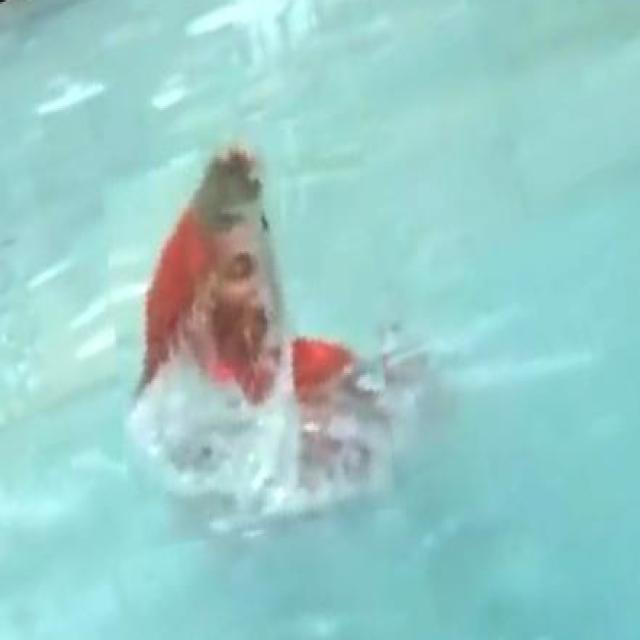Drowning: (139, 151, 382, 412)
